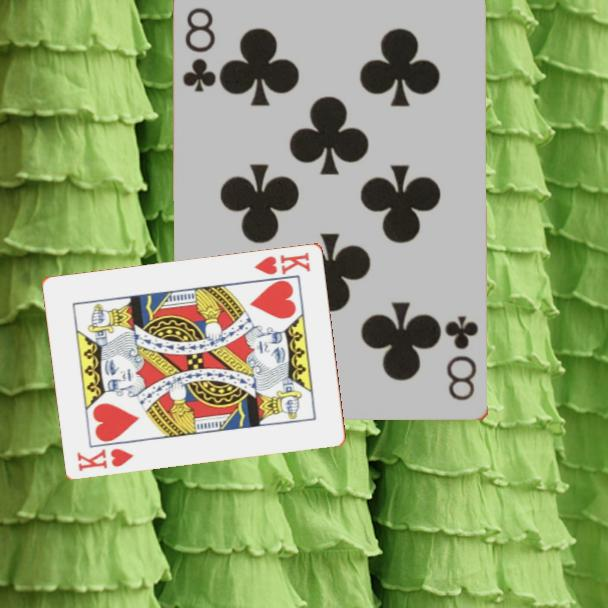c08: (442, 312, 482, 403), (180, 5, 220, 96)
h13: (74, 445, 137, 474), (251, 248, 313, 277)
